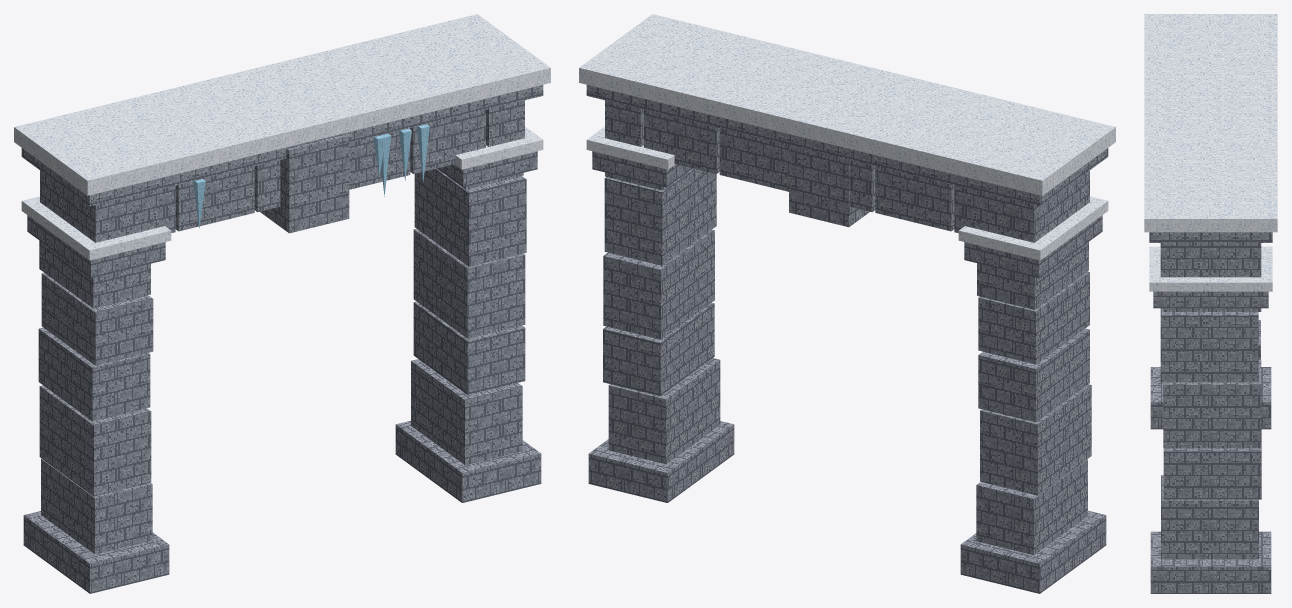
The model's file is wall_frame_snow.glb.
3 renders of one model, left to right at view 1: azimuth 30°, elevation 25°; view 2: azimuth 150°, elevation 25°; view 3: azimuth 270°, elevation 25°, orthographic. The views are drawn at different scales.
Parts seen in each view (by area): view 1: Body.006; view 2: Body.006; view 3: Body.006.
Part boxes in pixels (x1,y1,x2,y2): Body.006: [14, 14, 550, 593]; Body.006: [579, 14, 1115, 593]; Body.006: [1144, 14, 1277, 593].
Bounding box in the file's own units: 3.86 × 3.32 × 1.06.
3 materials, 3 textured.
